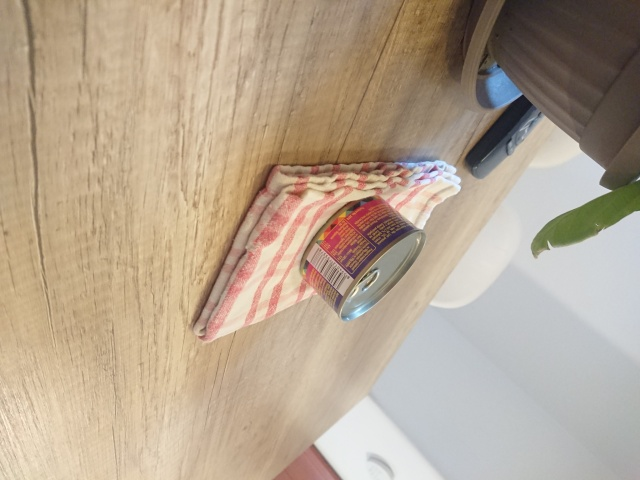Giana Tuna Salad Mexico 185g: (299, 191, 428, 324)
